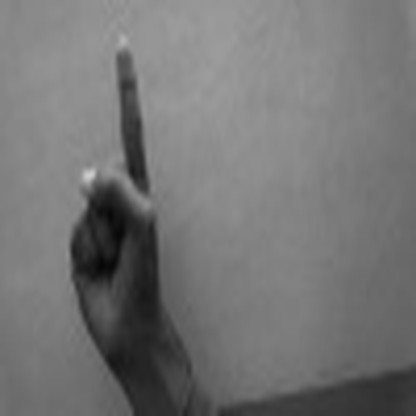d: (51, 32, 178, 360)
